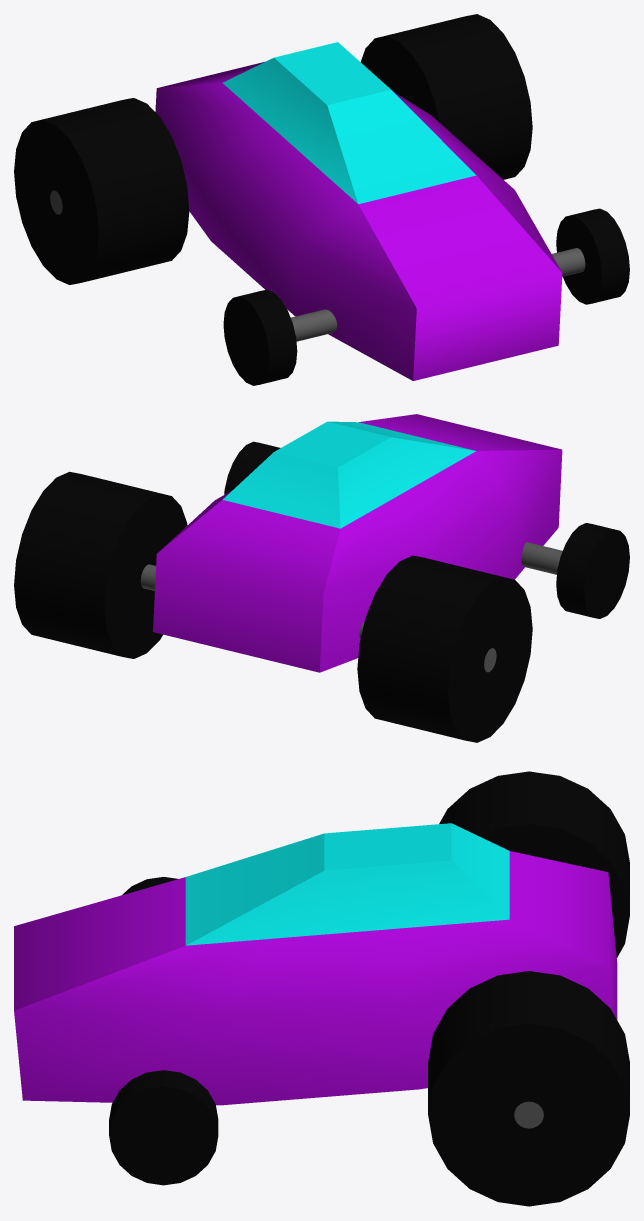
Rendered from Hero.fbx.
The picture shows the model from 3 angles, top to bottom: view 1: azimuth 30°, elevation 25°; view 2: azimuth 150°, elevation 25°; view 3: azimuth 270°, elevation 25°; orthographic projection. The views are drawn at different scales.
Visible parts, largest first — view 1: Body, Wheel1, Wheel2, Wheel4, Wheel3, Axle1; view 2: Body, Wheel1, Wheel2, Wheel4, Wheel3, Axle1, Axle2; view 3: Body, Wheel2, Wheel1, Wheel3, Axle2.
Part boxes in pixels (x1,y1,x2,y2): Body: (155, 42, 562, 380); Wheel1: (14, 98, 189, 284); Wheel2: (361, 14, 532, 179); Wheel4: (223, 289, 297, 385); Wheel3: (556, 208, 629, 304); Axle1: (291, 248, 585, 341); Body: (153, 414, 562, 672); Wheel1: (357, 555, 532, 742); Wheel2: (14, 471, 187, 658); Wheel4: (556, 523, 629, 618); Wheel3: (224, 441, 280, 494); Axle1: (521, 542, 562, 574); Axle2: (140, 564, 496, 672); Body: (14, 823, 617, 1105); Wheel2: (428, 971, 629, 1206); Wheel1: (439, 771, 629, 957); Wheel3: (109, 1070, 218, 1185); Axle2: (514, 1101, 543, 1128).
Size of the model in its own units: 4 by 1.77 by 4.13.
